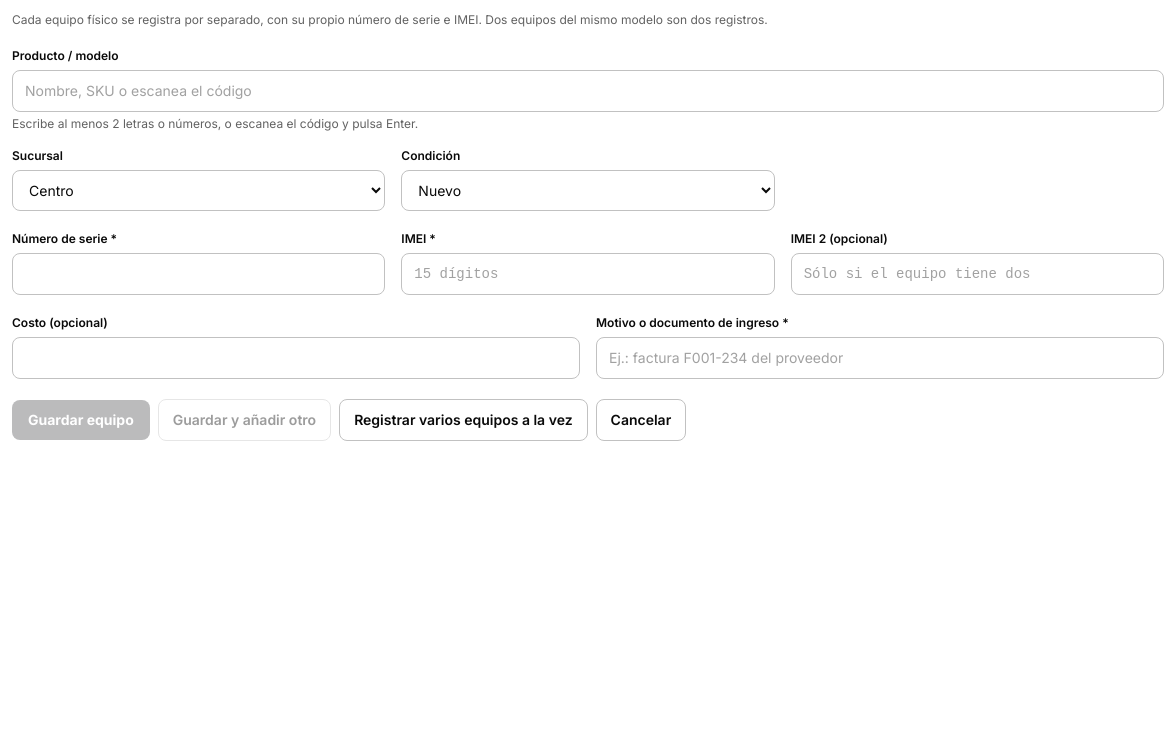
Scenario: a product counted by quantity explains itself instead of going quiet
Type "Cable USB-C" into the dropdown labelled "Producto / modelo" at {"x": 588, "y": 91}, box top-left (12, 70), bottom-right (1164, 112)
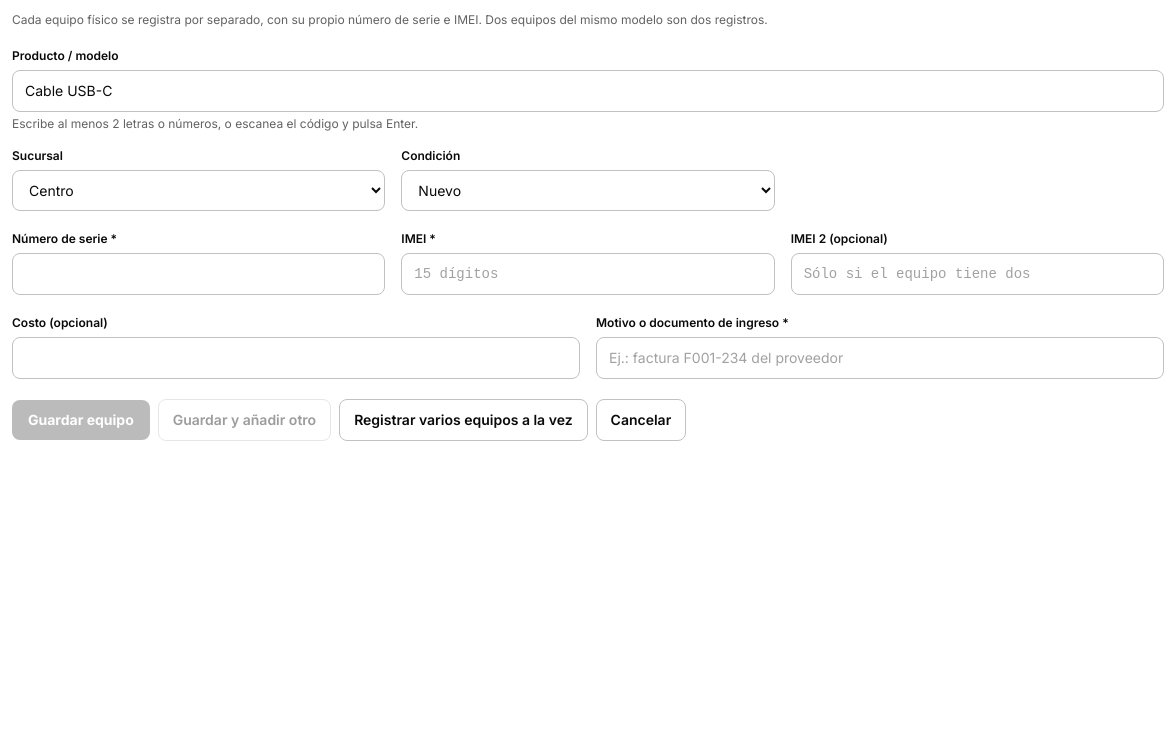
Press Enter in the dropdown labelled "Producto / modelo", box top-left (12, 70), bottom-right (1164, 112)
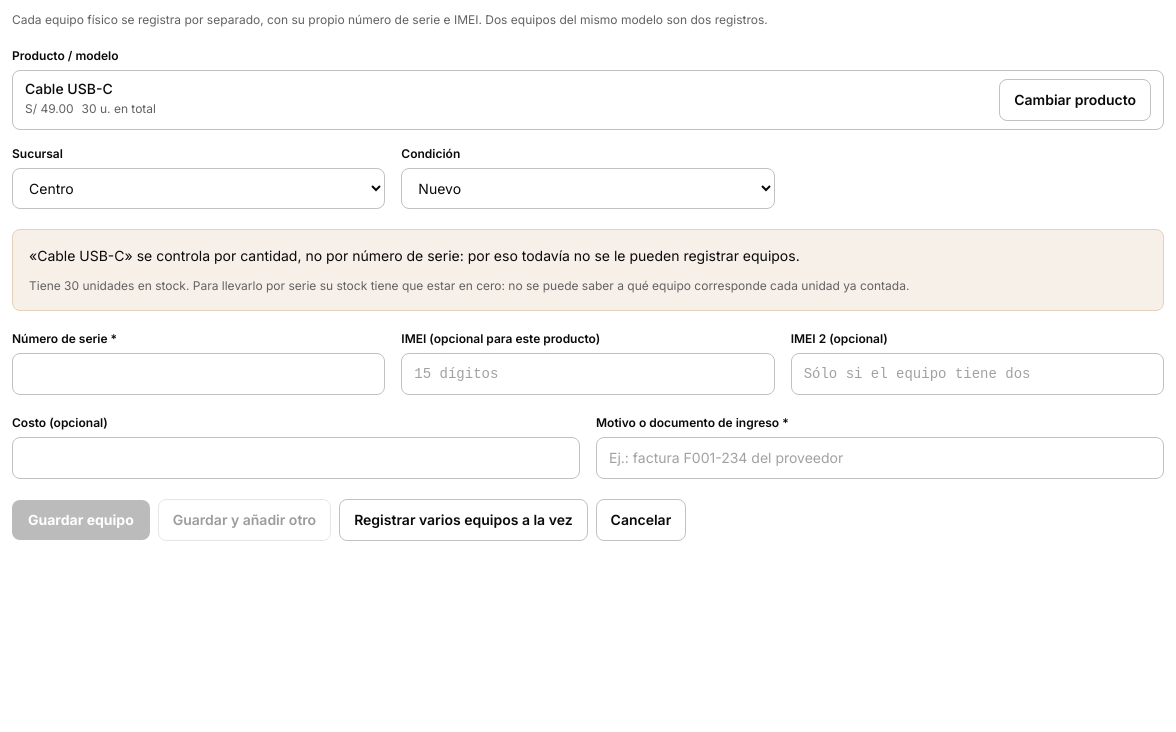
Expected: the button "Cambiar producto" is shown, top-left (999, 79), bottom-right (1151, 121)
Expected: the element that starts with "Cable USB-C" shows "se controla por cantidad", top-left (124, 247), bottom-right (800, 264)
Expected: the element that starts with "Cable USB-C" shows "30 unidades", top-left (64, 278), bottom-right (134, 293)
